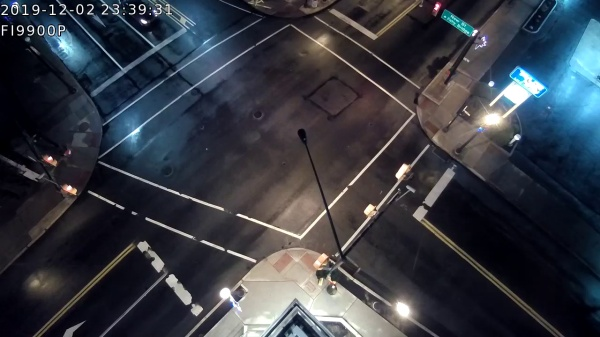car: (122, 1, 171, 33)
